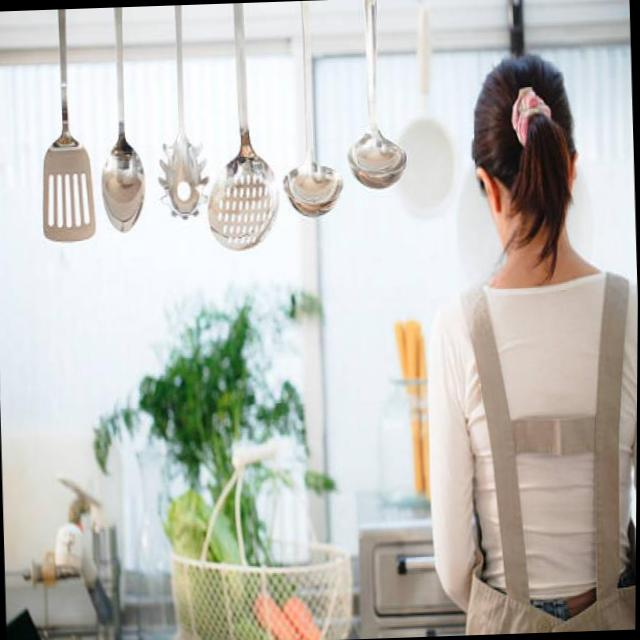no helmet: (454, 20, 603, 316)
